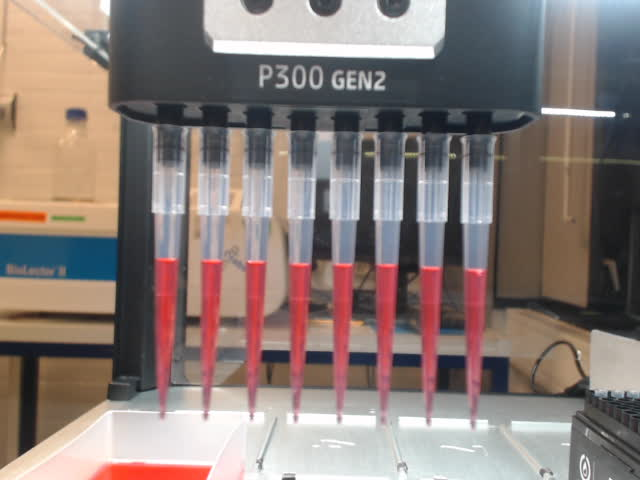Liquid: (459, 265, 492, 434), (150, 253, 183, 421), (415, 262, 446, 430), (284, 260, 315, 426), (240, 256, 271, 421), (372, 260, 402, 430), (328, 260, 358, 425), (198, 255, 227, 422)
Tip: (457, 133, 500, 435), (148, 121, 191, 421), (369, 129, 410, 429), (235, 127, 274, 421), (327, 129, 365, 426), (283, 128, 321, 424), (195, 125, 231, 422), (416, 132, 452, 429)
